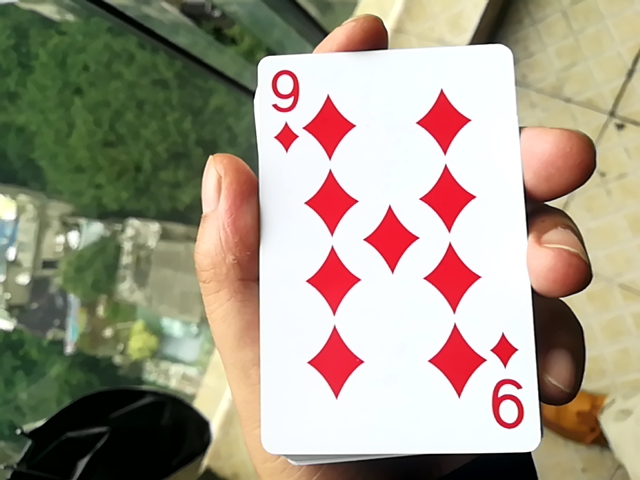fk 9: (246, 36, 545, 448)
